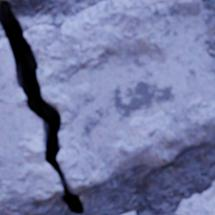brick: (175, 181, 214, 214), (124, 211, 135, 214), (0, 0, 16, 1)
broken_brick: (24, 0, 214, 194), (0, 39, 62, 205)
crack: (0, 1, 82, 213), (8, 193, 16, 203), (53, 27, 60, 34)
